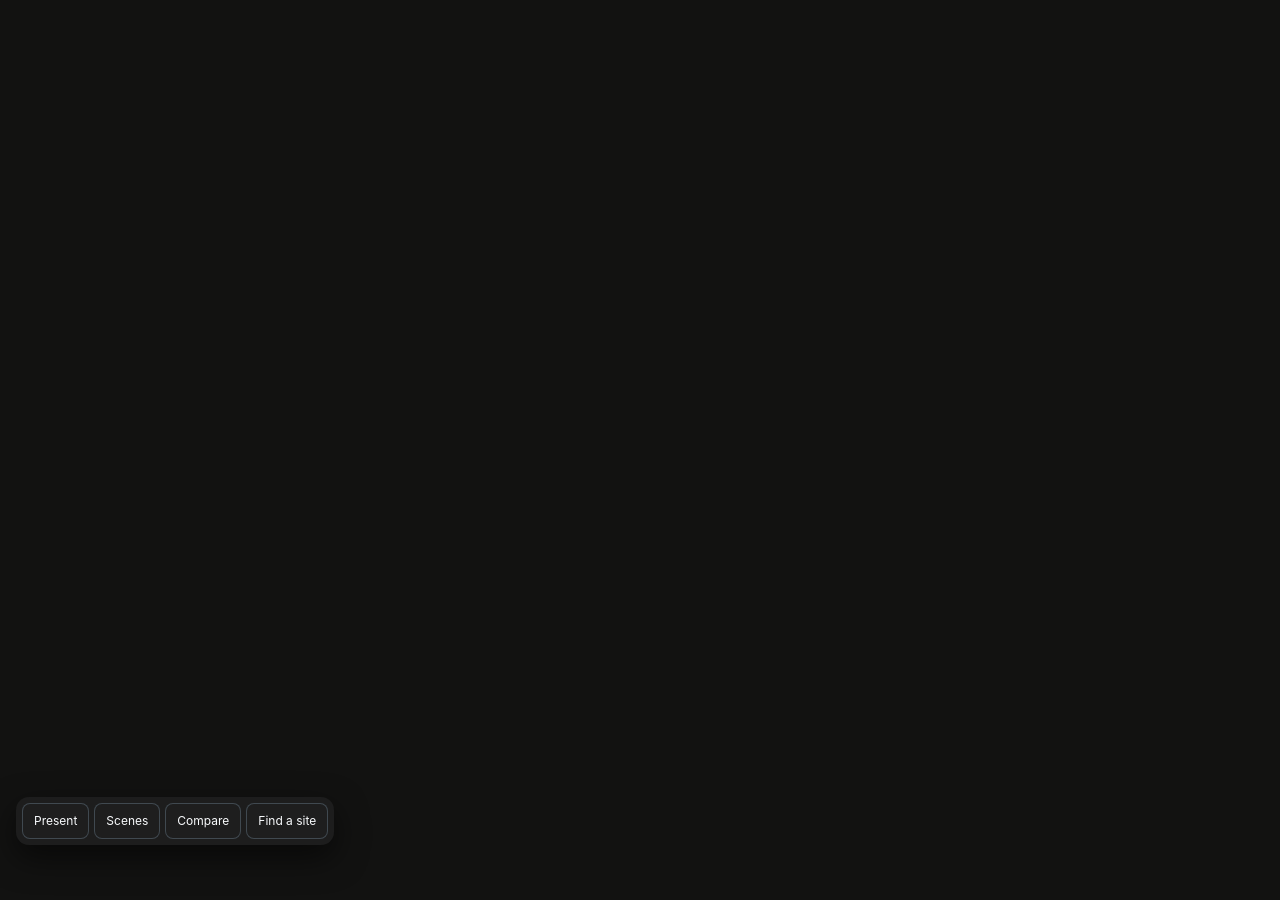
named scenes are bounded and restore the captured state
Click the button "Scenes" at [127, 821], box [94, 803, 160, 839]
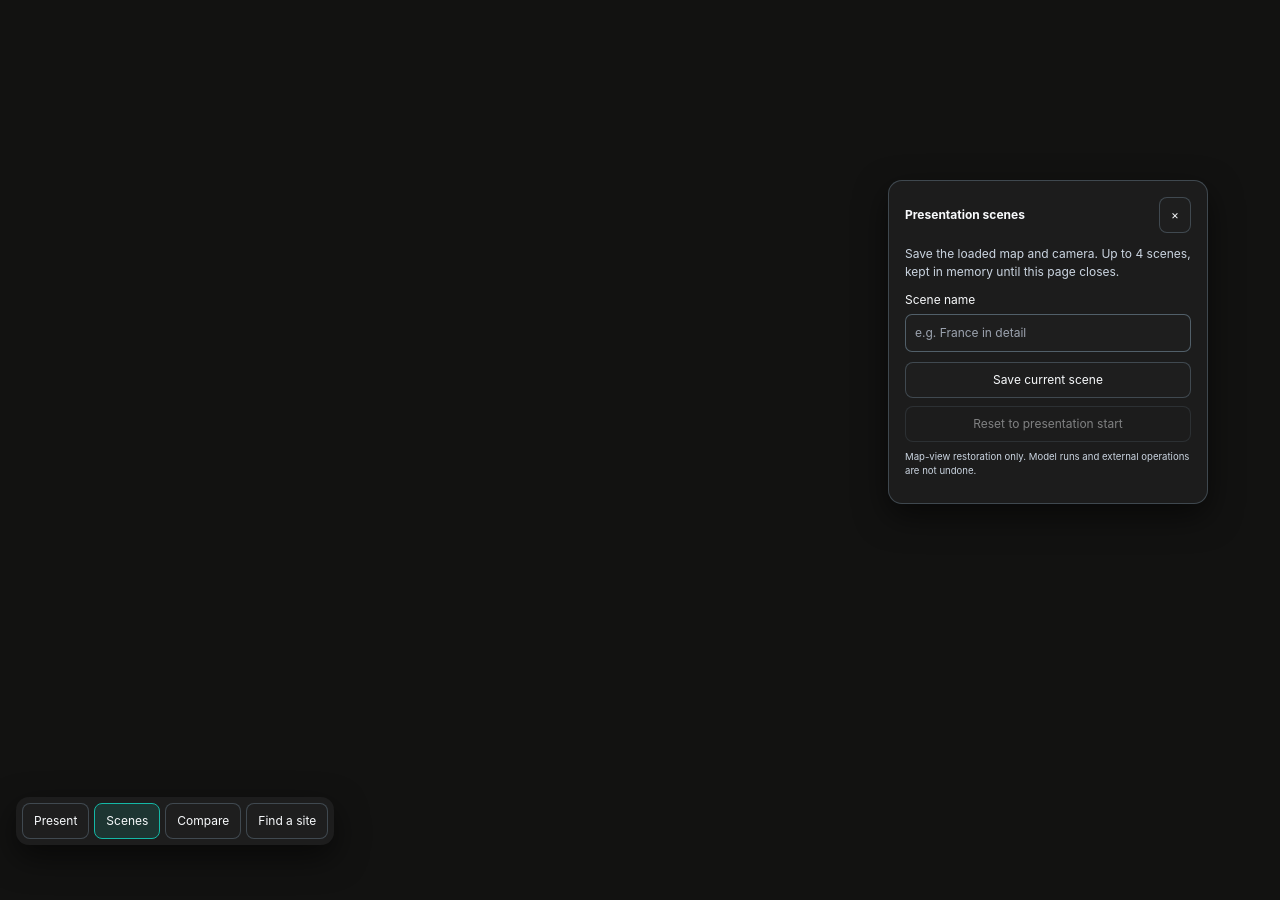
Type "France detail" into the field labelled "Scene name" at [1048, 333], box [905, 314, 1191, 352]
Click the button "Save current scene" at [1048, 380], box [905, 362, 1191, 398]
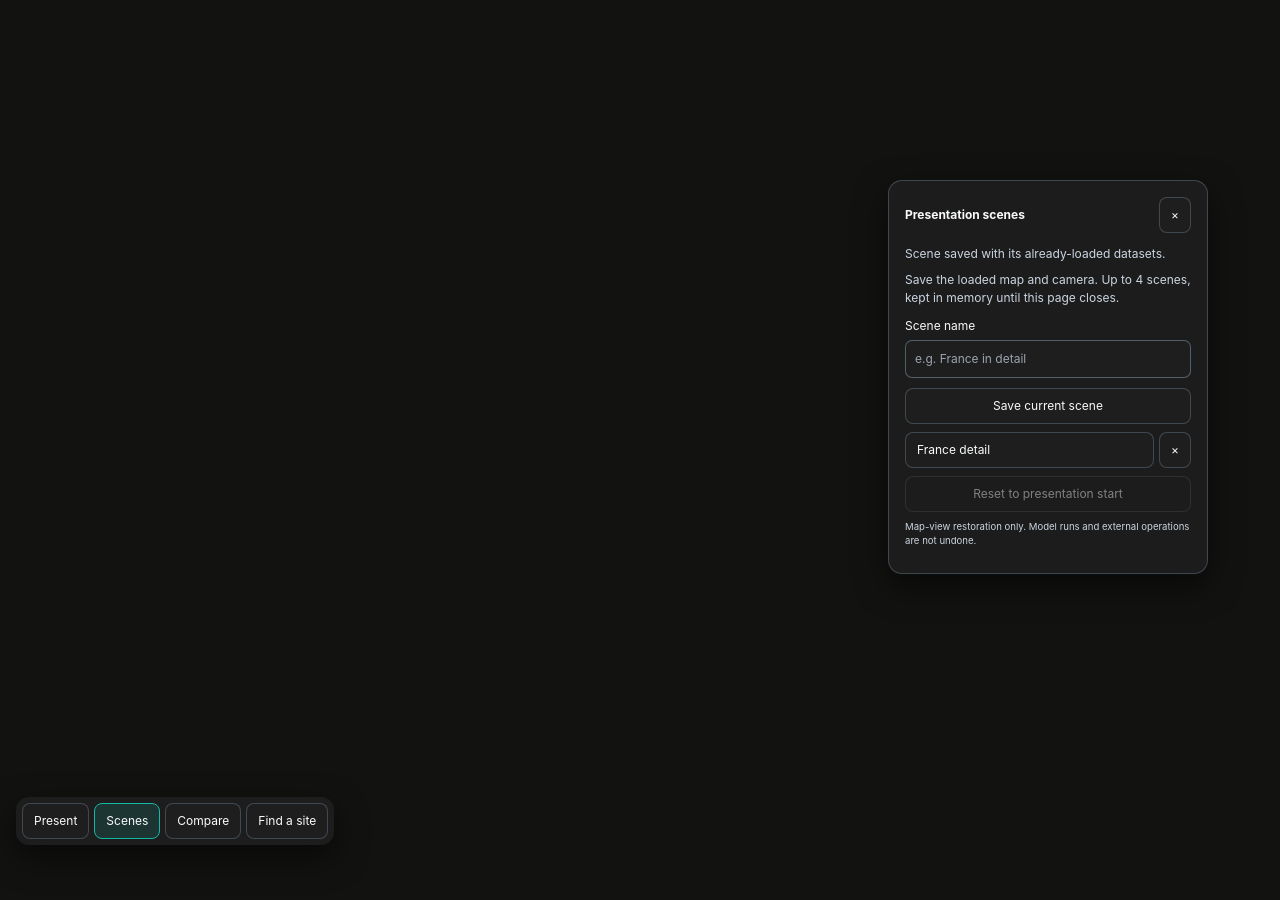
Click the button "France detail" at [1030, 450], box [905, 432, 1154, 468]
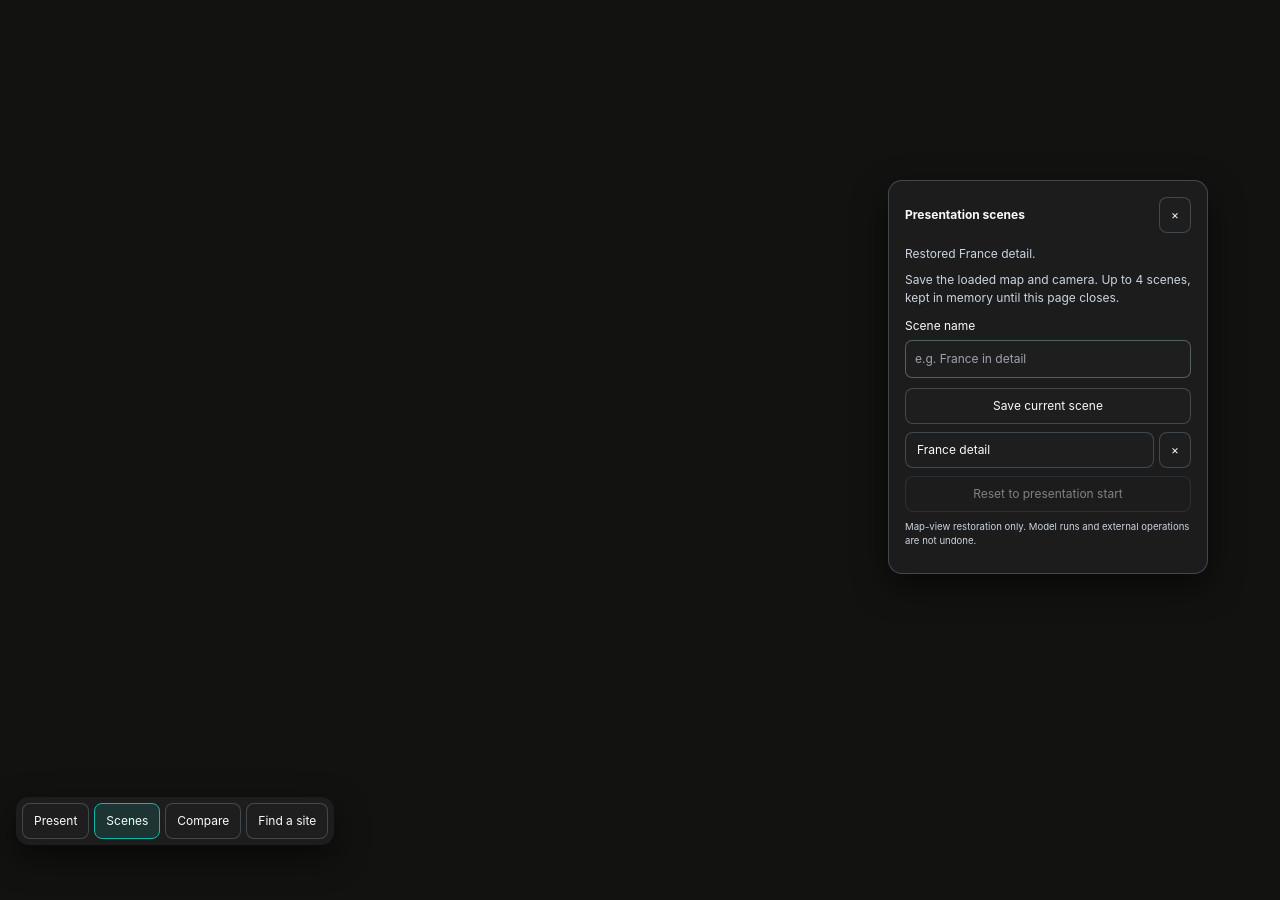
Click the button "Save current scene" at [1048, 406], box [905, 388, 1191, 424]
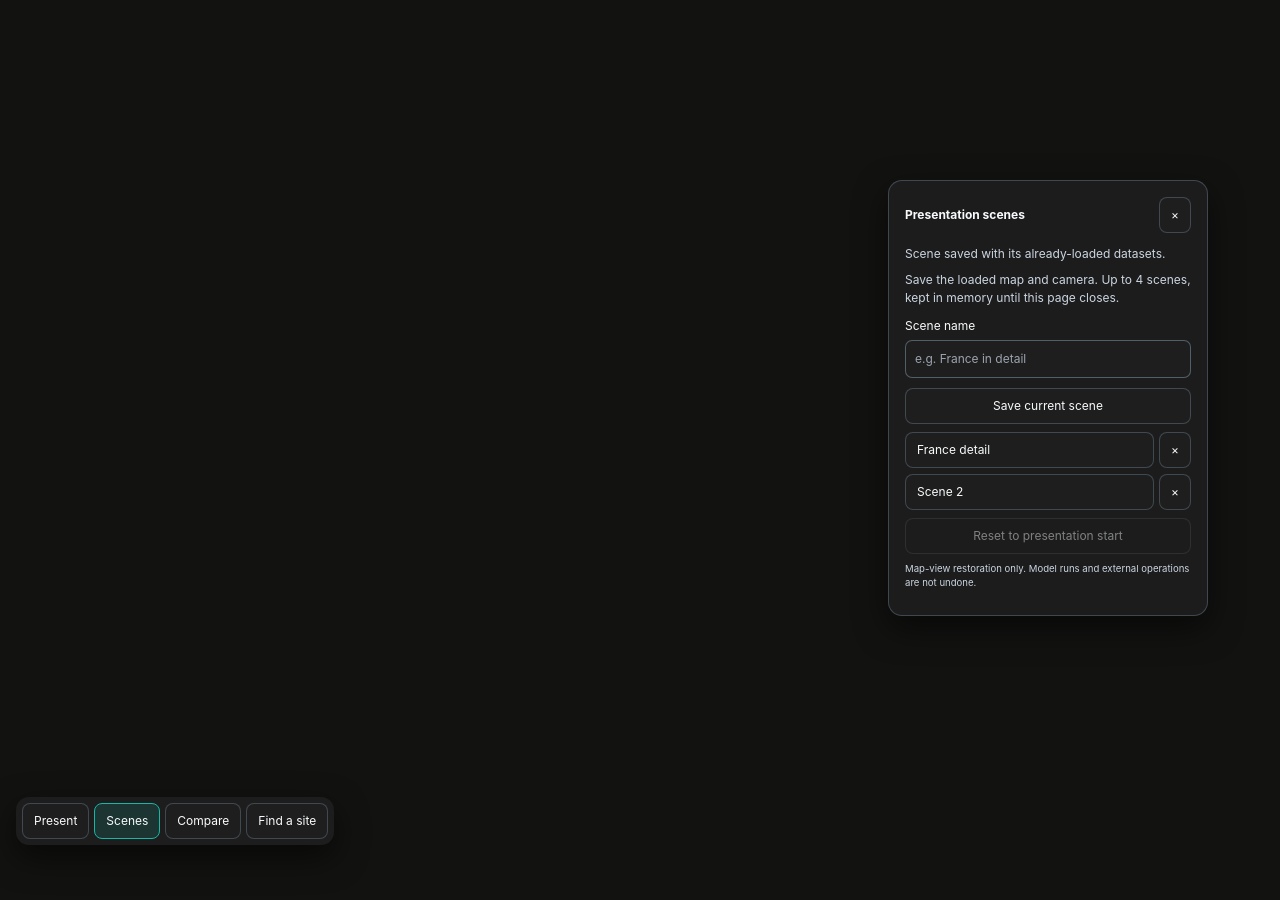
Click the button "Save current scene" at [1048, 406], box [905, 388, 1191, 424]
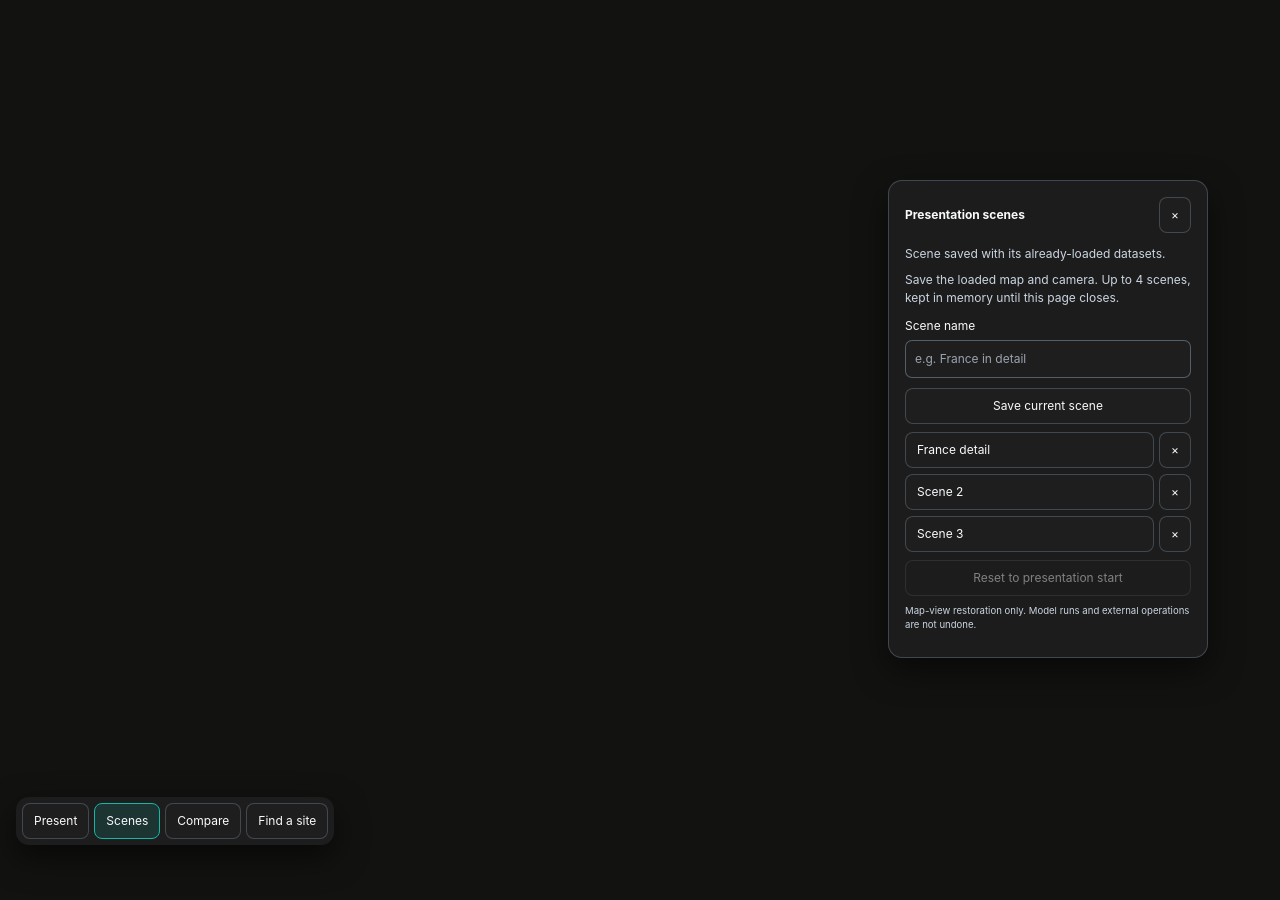
Click the button "Save current scene" at [1048, 406], box [905, 388, 1191, 424]
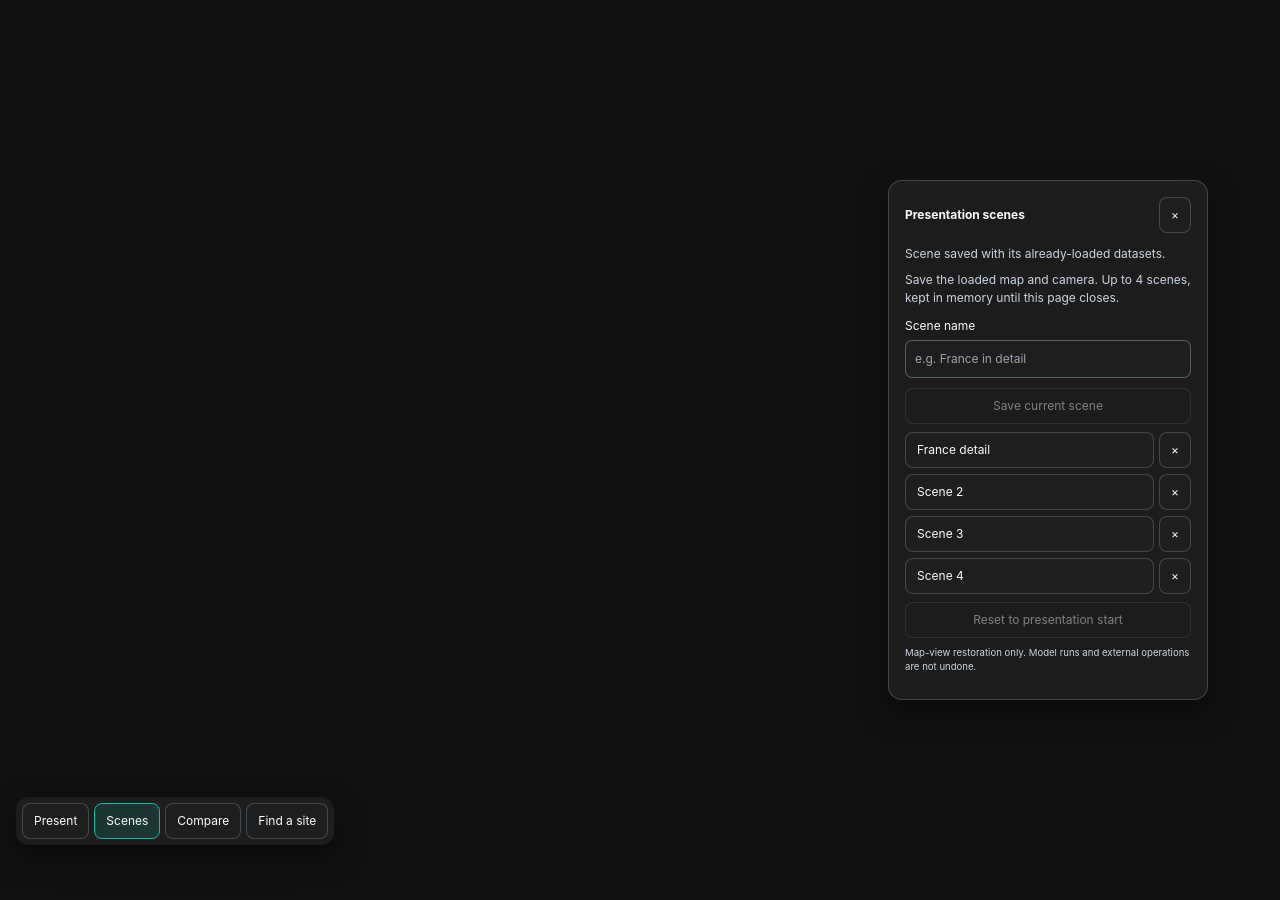
expect the button "Save current scene" is disabled: met, box [905, 388, 1191, 424]
